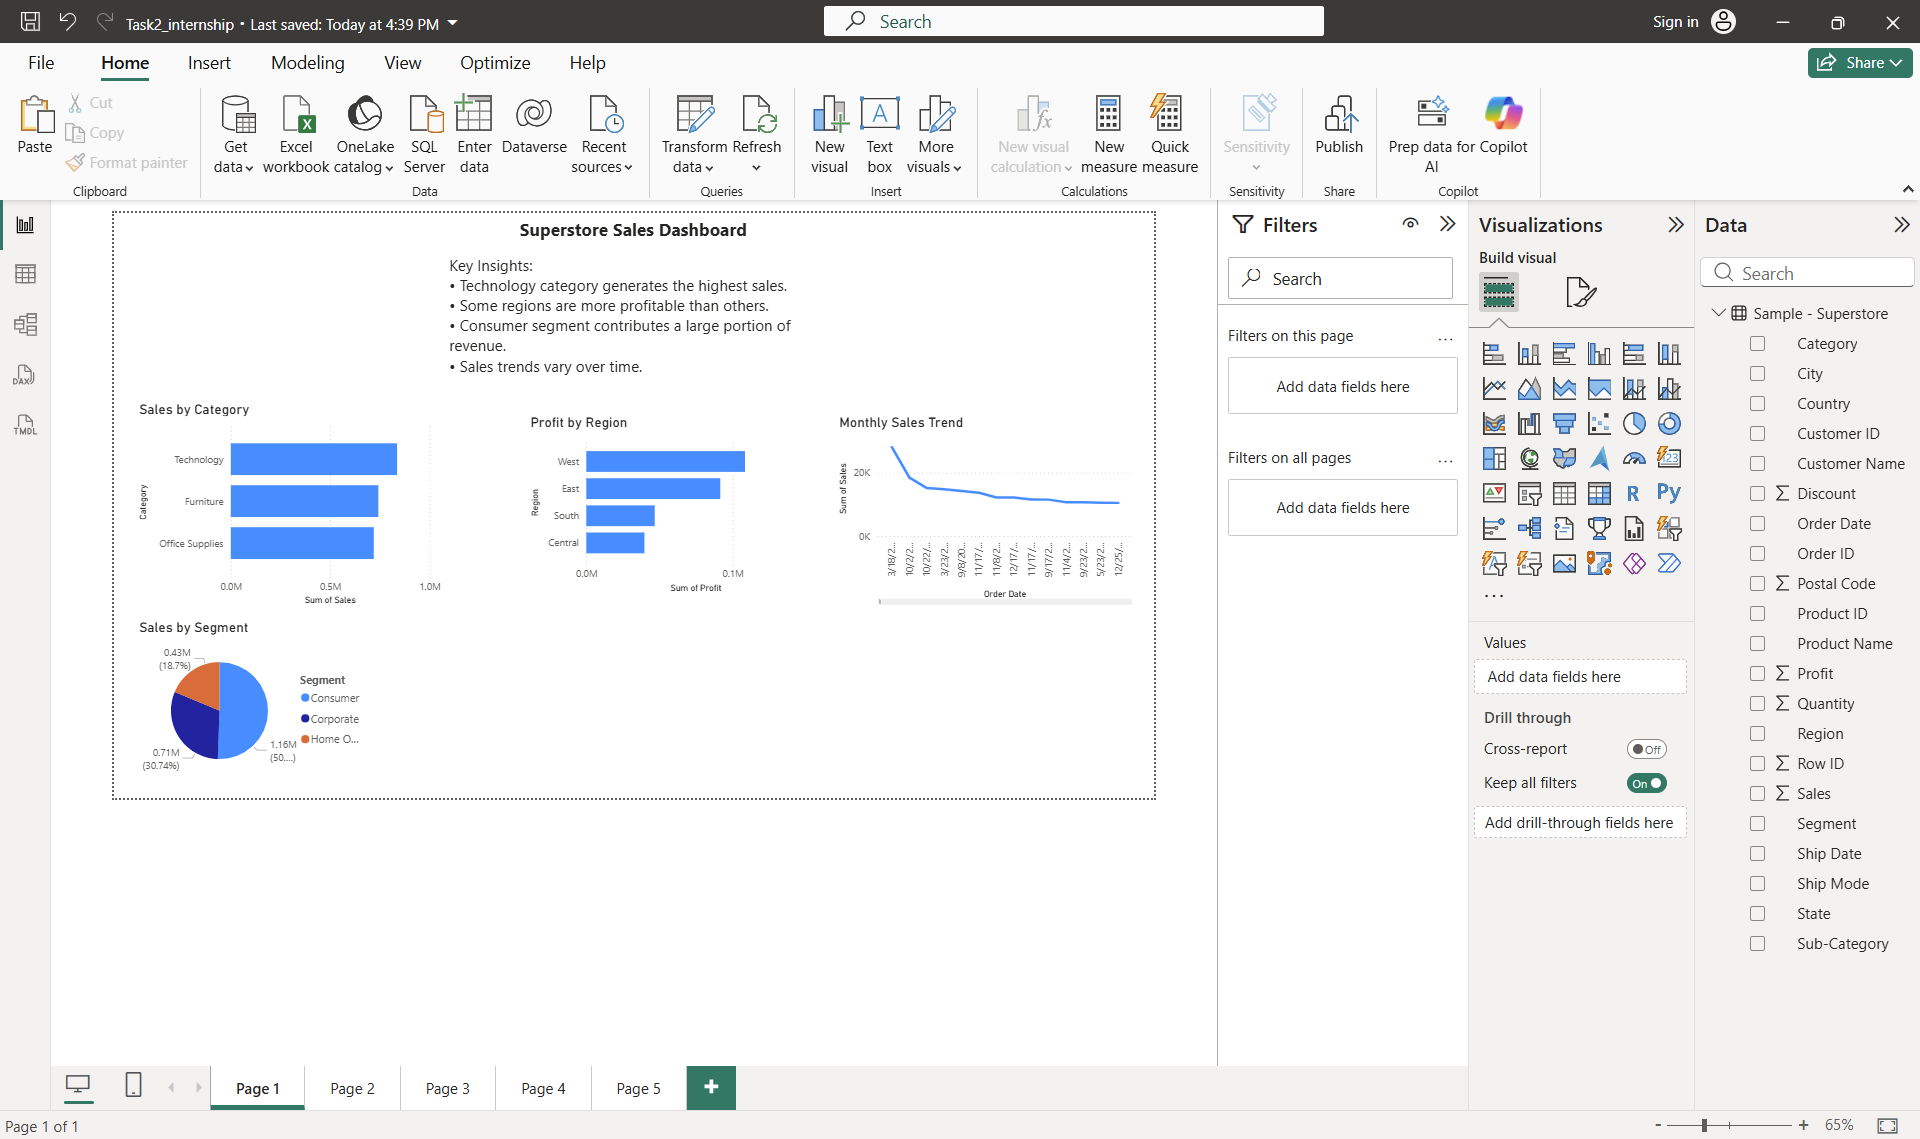

Layout of this report page (visuals, bound fields, positions):
{"tool":"powerbi","page":{"name":"Page 1","canvas":[1280,720],"ordinal":0},"visuals":[{"type":"textbox","box":[407.7,0,463.1,206.2],"z":4000},{"type":"clusteredBarChart","title":"Sales by Category","fields":{"Y":["Sum(Sample - Superstore.Sales)"],"Category":["Sample - Superstore.Category"]},"box":[26.2,230.8,381.5,256.9],"z":4001},{"type":"clusteredBarChart","title":"Profit by Region","fields":{"Category":["Sample - Superstore.Region"],"Y":["Sum(Sample - Superstore.Profit)"]},"box":[507.7,247.7,363.1,224.6],"z":4002},{"type":"lineChart","title":"Monthly Sales Trend","fields":{"Category":["Sample - Superstore.Order Date"],"Y":["Sum(Sample - Superstore.Sales)"]},"box":[887.7,247.7,370.8,240],"z":4003},{"type":"pieChart","title":"Sales by Segment","fields":{"Category":["Sample - Superstore.Segment"],"Y":["Sum(Sample - Superstore.Sales)"]},"box":[26.2,500,293.8,206.2],"z":4004}]}

Visuals, with their boxes on the page's 1280x720 design canvas (x1, y1, x2, y2). These are canvas units, not pixel positions in the 1920x1139 screenshot, which may show the page scaled, cropped or inside an application window:
textbox: bbox=(408, 0, 871, 206)
"Sales by Category" clusteredBarChart: bbox=(26, 231, 408, 488)
"Profit by Region" clusteredBarChart: bbox=(508, 248, 871, 472)
"Monthly Sales Trend" lineChart: bbox=(888, 248, 1258, 488)
"Sales by Segment" pieChart: bbox=(26, 500, 320, 706)
